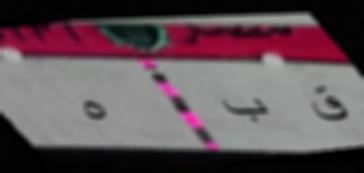5: (73, 98, 120, 129)
baa: (209, 94, 275, 129)
qaaf: (310, 81, 348, 131)
